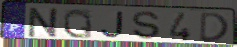4: (168, 11, 192, 42)
D: (198, 11, 231, 44)
J: (99, 11, 126, 39)
N: (26, 7, 62, 39)
Q: (62, 8, 94, 40)
S: (131, 10, 161, 41)
